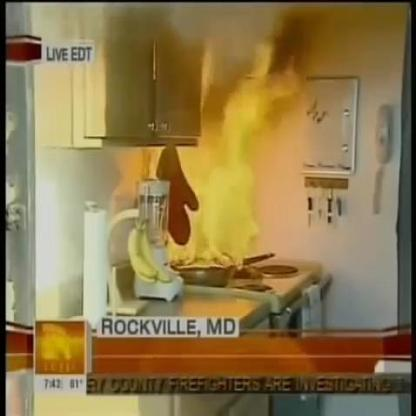fire: (147, 34, 302, 268)
